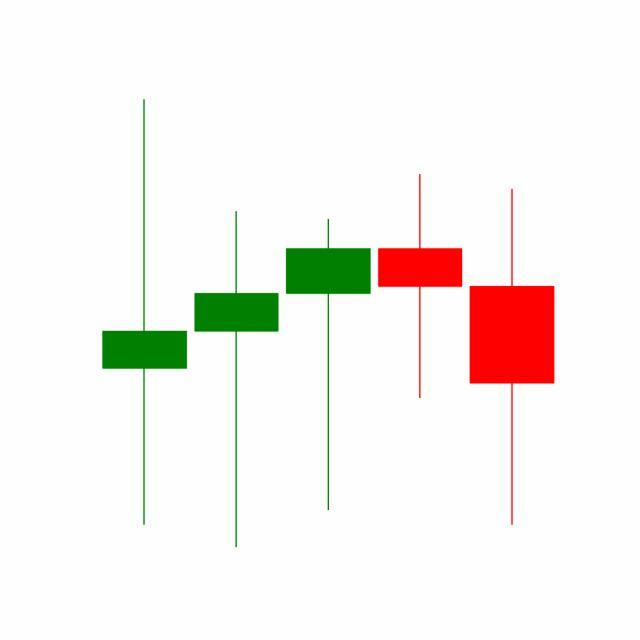Spinning Top: (374, 171, 468, 401)
